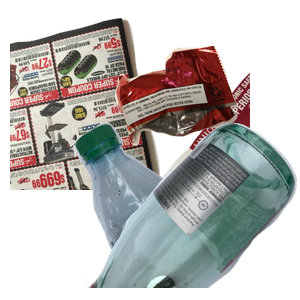glass: (86, 120, 300, 300)
paper: (10, 15, 250, 195)
plastic: (71, 120, 300, 300)
trash: (113, 43, 300, 181)
